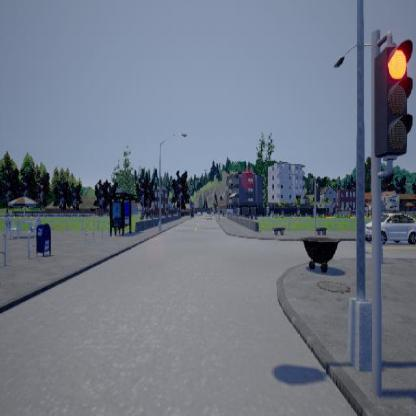traffic_light_red: (374, 30, 412, 178)
vehicle: (364, 209, 415, 243)
